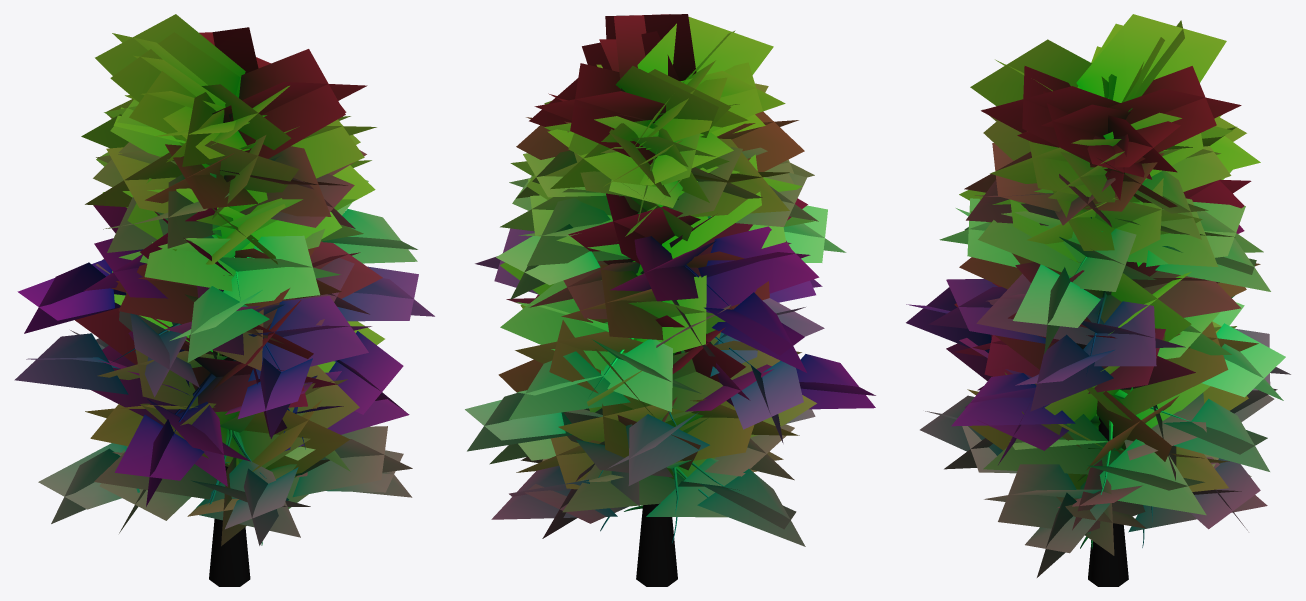
File: M_Pine_1_15.fbx
The picture shows the model from 3 angles, left to right: view 1: azimuth 30°, elevation 25°; view 2: azimuth 150°, elevation 25°; view 3: azimuth 270°, elevation 25°; orthographic projection. The views are drawn at different scales.
Visible parts, largest first — view 1: Tree_15; view 2: Tree_15; view 3: Tree_15.
Part boxes in pixels (x1,y1,x2,y2): Tree_15: (14, 14, 434, 586); Tree_15: (465, 14, 875, 586); Tree_15: (906, 14, 1290, 586).
Bounding box in the file's own units: 627 × 945 × 617.
